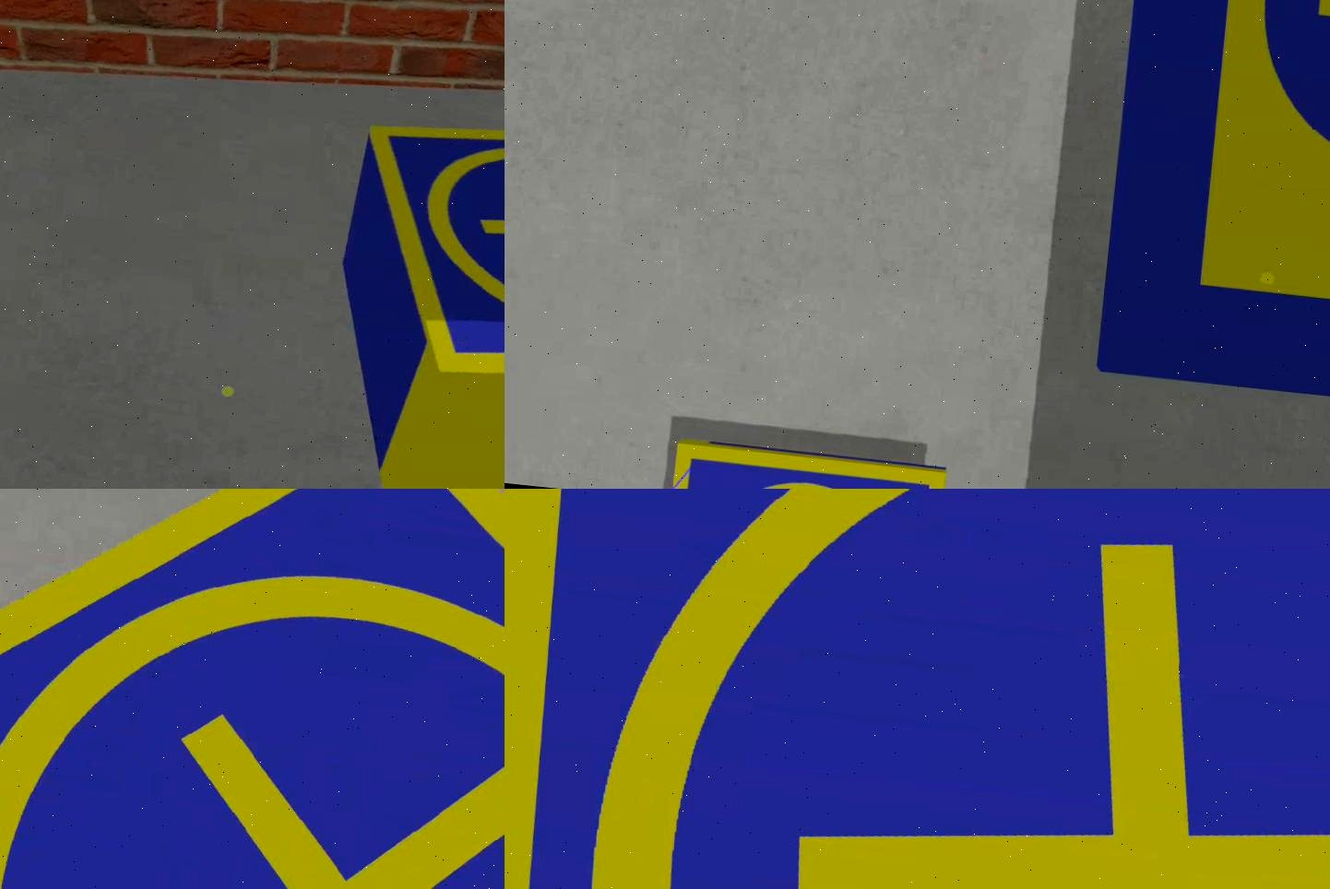large_base: (1097, 1, 1330, 417)
small_base: (505, 490, 1330, 889), (1, 490, 505, 889), (336, 110, 505, 417), (669, 443, 944, 490)
